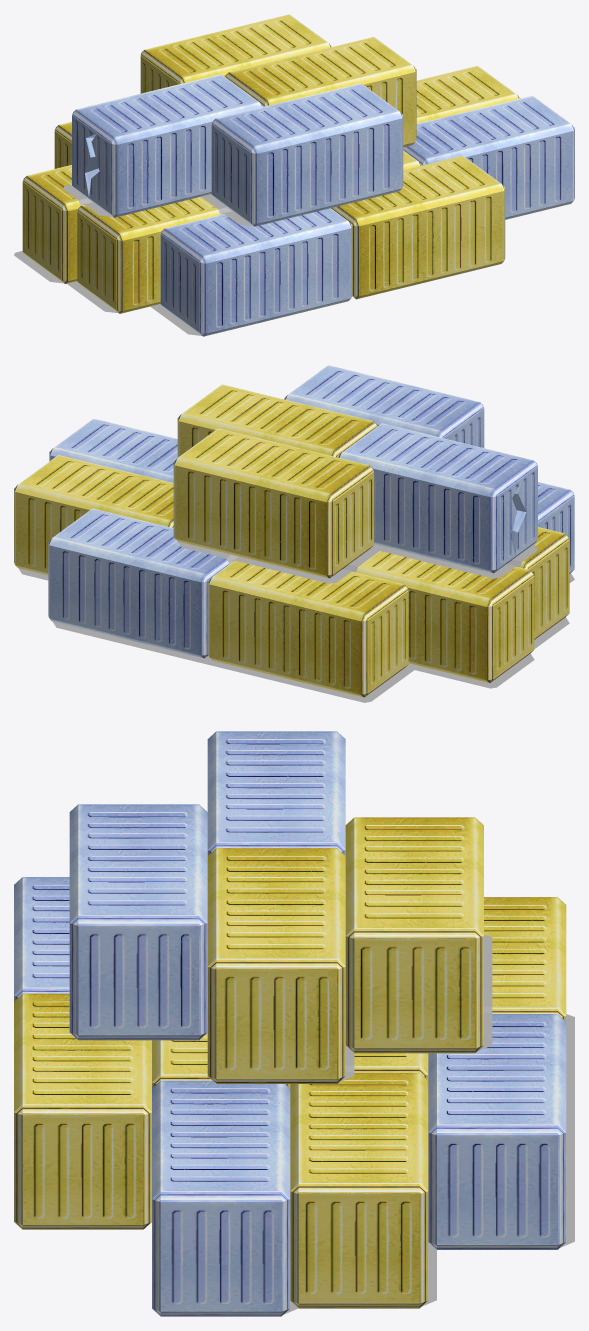
Rendered from container_bake.dae.
3 renders of one model, top to bottom at view 1: azimuth 30°, elevation 25°; view 2: azimuth 150°, elevation 25°; view 3: azimuth 270°, elevation 25°, orthographic. The views are drawn at different scales.
Parts seen in each view (by area): view 1: m0, m1; view 2: m0, m1; view 3: m0, m1.
Boxes of the visible parts, bbox=[...] form: m0: bbox=[22, 14, 574, 336]; m1: bbox=[14, 184, 252, 335]; m0: bbox=[14, 365, 574, 697]; m1: bbox=[18, 541, 574, 702]; m0: bbox=[14, 731, 566, 1316]; m1: bbox=[284, 934, 574, 1314].
Bounding box in the file's own units: 2485 × 800 × 1625.
Materials: 3 (3 with a texture image).
